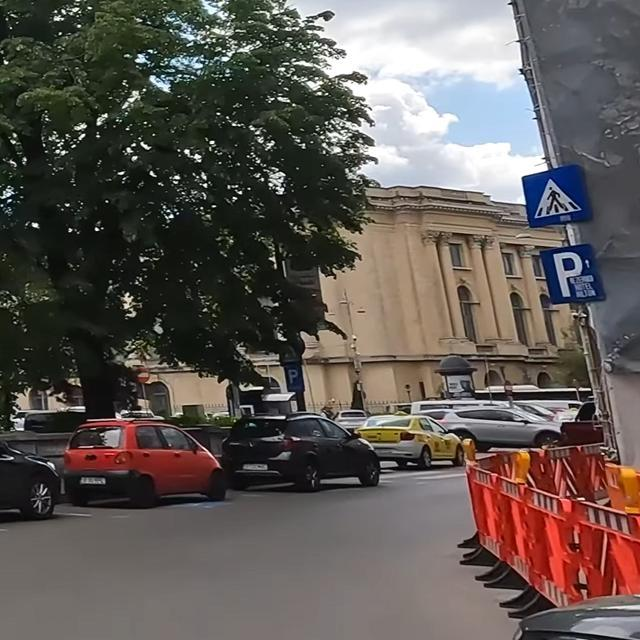info_crosswalk: (520, 162, 593, 225)
